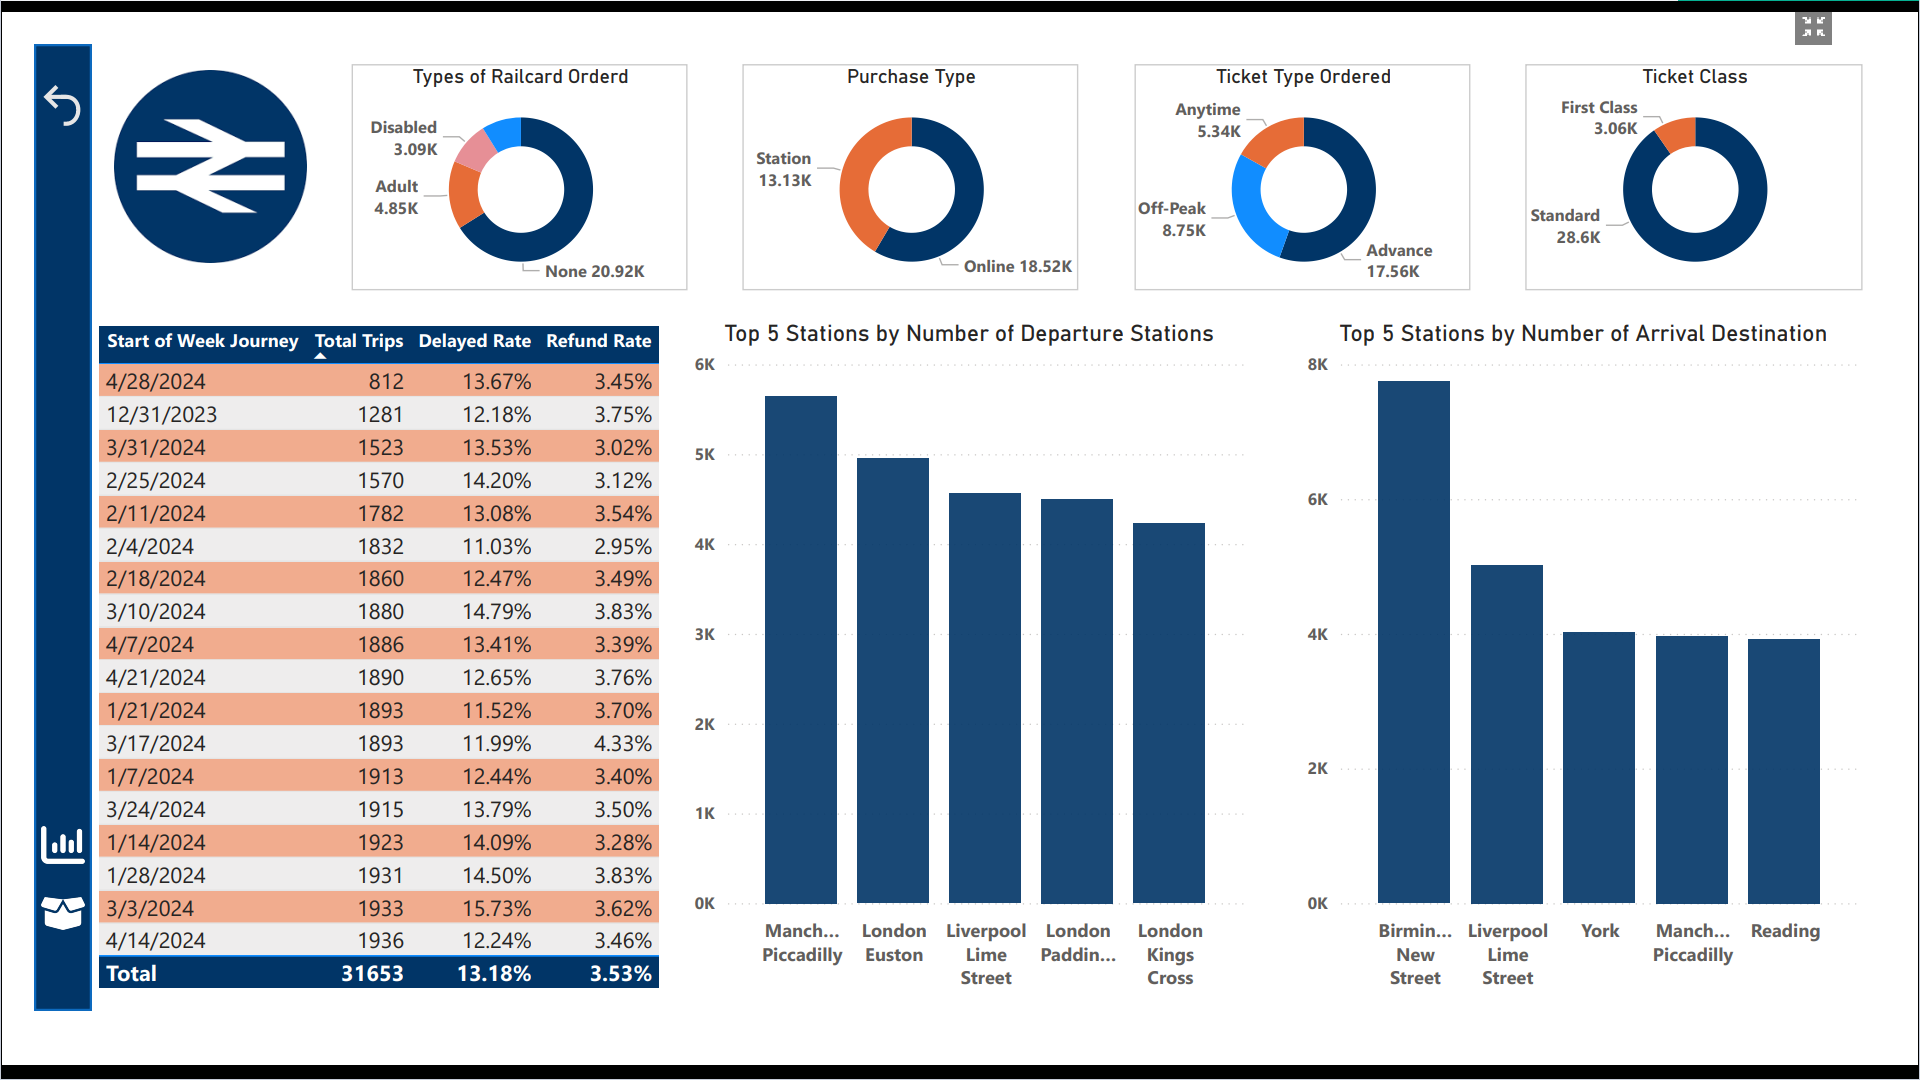

Layout of this report page (visuals, bound fields, positions):
{"tool":"powerbi","page":{"name":"Details Page","canvas":[1350,720],"ordinal":1},"visuals":[{"type":"image","box":[0,14.3,255.7,150],"z":0},{"type":"tableEx","fields":{"Values":["Railway.Start of Week Journey","Measure Table.Total Trips","Measure Table.Delayed Rate","Measure Table.Refund Rate"]},"box":[47.8,195.5,428.4,509],"z":1000},{"type":"columnChart","title":"Top 5 Trips by Arrival Destination","fields":{"Category":["Railway.Arrival Destination"],"Y":["Measure Table.Total Trips"]},"box":[923.3,195,408.3,510],"z":2000},{"type":"shape","box":[0,0,41,704.3],"z":3000},{"type":"donutChart","title":"Types of Railcard Orderd","fields":{"Category":["Railway.Railcard"],"Y":["CountNonNull(Railway.Railcard)"]},"box":[231.1,14.3,245,165],"z":4000},{"type":"donutChart","title":"Ticket Type Ordered","fields":{"Category":["Railway.Ticket Type"],"Y":["CountNonNull(Railway.Ticket Type)"]},"box":[800,15,245,165],"z":5000},{"type":"donutChart","title":"Purchase Type","fields":{"Category":["Railway.Purchase Type"],"Y":["CountNonNull(Railway.Purchase Type)"]},"box":[516.3,14.3,245,165],"z":6000},{"type":"columnChart","title":"Top 5 Trips by Departure Station","fields":{"Y":["Measure Table.Total Trips"],"Category":["Railway.Departure Station"]},"box":[486.7,195,411.7,510],"z":7000},{"type":"donutChart","title":"Ticket Class","fields":{"Category":["Railway.Ticket Class"],"Y":["CountNonNull(Railway.Ticket Class)"]},"box":[1086.8,14.3,245.7,164.3],"z":8000},{"type":"image","box":[0,560,41.4,47.1],"z":9000},{"type":"actionButton","box":[0,24,40,40],"z":10000},{"type":"image","box":[0,608.6,41.4,48.6],"z":11000}]}

Visuals, with their boxes on the page's 1350x720 design canvas (x1, y1, x2, y2). These are canvas units, not pixel positions in the 1920x1080 screenshot, which may show the page scaled, cropped or inside an application window:
image: (left=0, top=14, right=256, bottom=164)
tableEx - Railway.Start of Week Journey x Measure Table.Total Trips: (left=48, top=196, right=476, bottom=704)
"Top 5 Trips by Arrival Destination" columnChart: (left=923, top=195, right=1332, bottom=705)
shape: (left=0, top=0, right=41, bottom=704)
"Types of Railcard Orderd" donutChart: (left=231, top=14, right=476, bottom=179)
"Ticket Type Ordered" donutChart: (left=800, top=15, right=1045, bottom=180)
"Purchase Type" donutChart: (left=516, top=14, right=761, bottom=179)
"Top 5 Trips by Departure Station" columnChart: (left=487, top=195, right=898, bottom=705)
"Ticket Class" donutChart: (left=1087, top=14, right=1332, bottom=179)
image: (left=0, top=560, right=41, bottom=607)
actionButton: (left=0, top=24, right=40, bottom=64)
image: (left=0, top=609, right=41, bottom=657)
